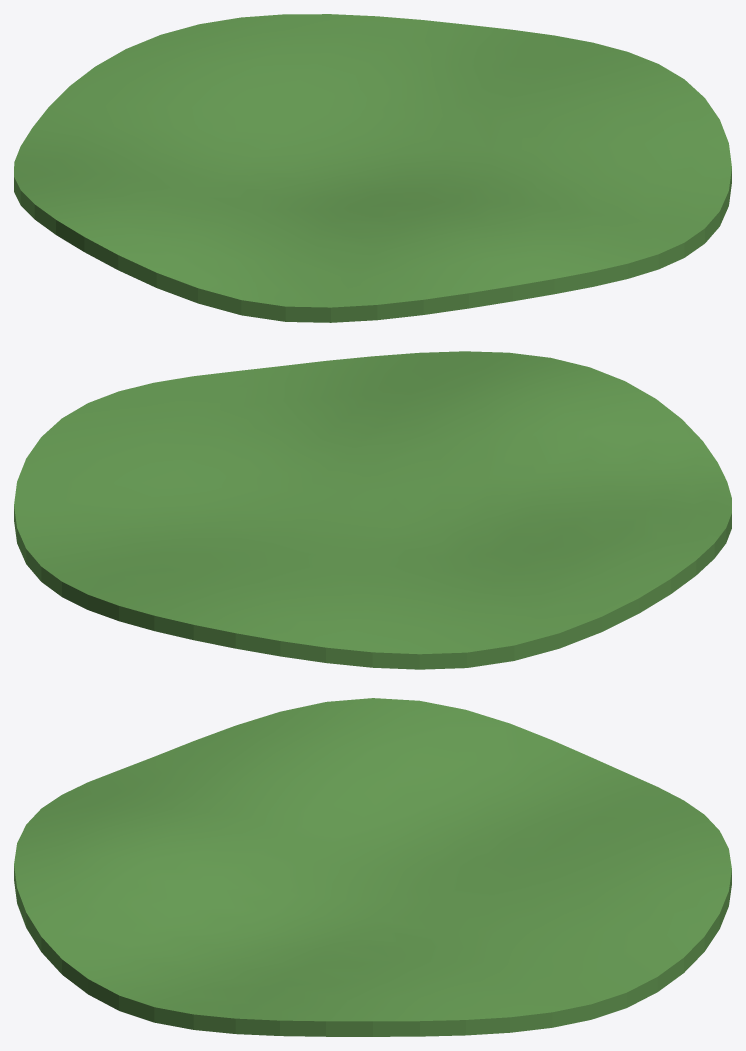
Rendered from floor.fbx.
3 views of the same model, one above another, from view 1: azimuth 30°, elevation 25°; view 2: azimuth 150°, elevation 25°; view 3: azimuth 270°, elevation 25° (orthographic).
Visible parts, largest first — view 1: pDisc1; view 2: pDisc1; view 3: pDisc1.
Part boxes in pixels (x1,y1,x2,y2): pDisc1: (14,14,731,322); pDisc1: (14,351,731,669); pDisc1: (14,698,731,1036).
Bounding box in the file's own units: 39.86 × 2.9 × 38.96.
